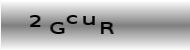2: (28, 14, 42, 28)
G: (48, 21, 65, 35)
R: (100, 21, 115, 35)
c: (65, 14, 78, 25)
u: (82, 15, 96, 26)
